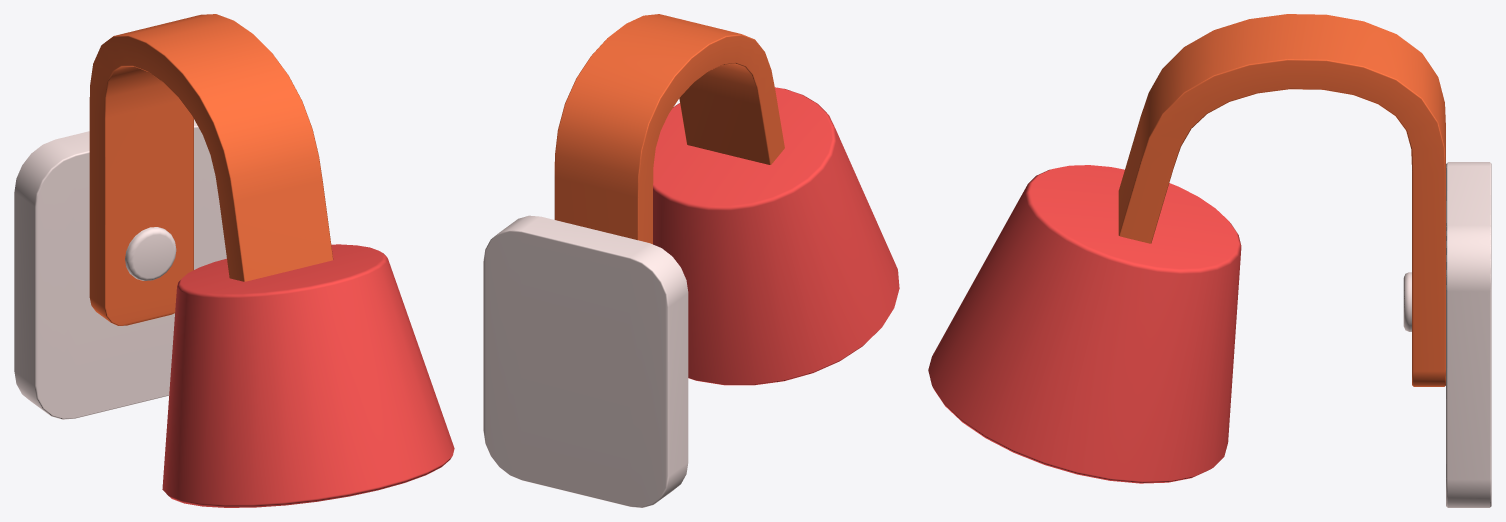
Rendered from City_18_Wall_Lamp_1.glb.
3 renders of one model, left to right at view 1: azimuth 30°, elevation 25°; view 2: azimuth 150°, elevation 25°; view 3: azimuth 270°, elevation 25°, orthographic. The views are drawn at different scales.
Visible parts, largest first — view 1: City_18_Wall_Lamp_1; view 2: City_18_Wall_Lamp_1; view 3: City_18_Wall_Lamp_1.
Part boxes in pixels (x1,y1,x2,y2): City_18_Wall_Lamp_1: (14,14,454,507); City_18_Wall_Lamp_1: (483,14,899,507); City_18_Wall_Lamp_1: (928,14,1491,507).
Bounding box in the file's own units: 0.5031 × 0.7828 × 0.9131.
1 material, 1 textured.
